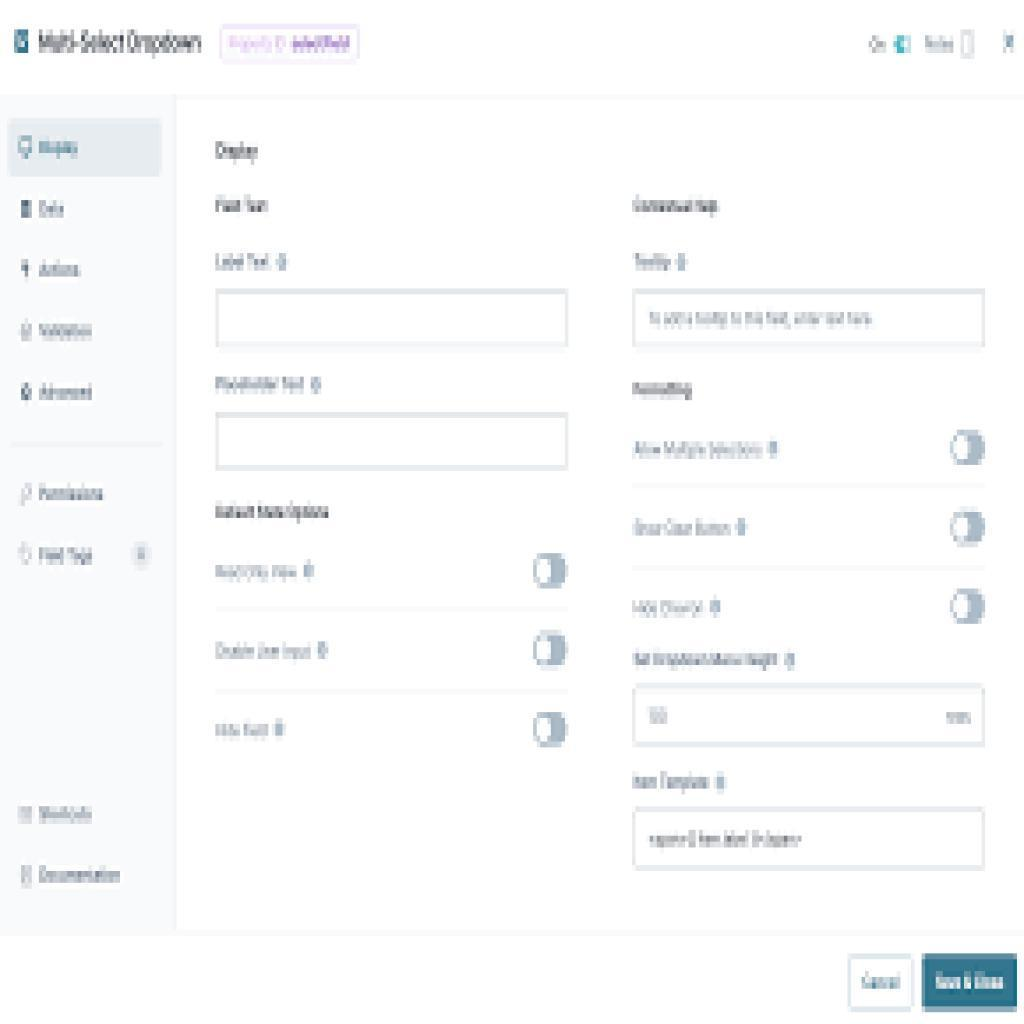button: (922, 955, 1019, 1013), (850, 957, 914, 1010)
input: (631, 807, 988, 871), (633, 687, 983, 747), (216, 290, 568, 348), (632, 289, 985, 346), (217, 414, 566, 468)
label: (630, 435, 787, 466), (632, 648, 803, 674), (212, 370, 327, 403), (210, 636, 337, 665), (212, 559, 324, 589), (629, 766, 732, 798), (212, 500, 336, 525), (627, 594, 730, 622), (630, 518, 753, 541), (632, 192, 728, 221), (214, 246, 292, 279), (628, 377, 700, 406), (213, 715, 291, 741), (631, 250, 693, 277), (214, 139, 262, 167), (215, 193, 270, 217)
switch: (533, 633, 571, 669), (535, 711, 572, 747), (950, 511, 987, 547), (535, 555, 570, 593), (952, 588, 986, 626), (952, 431, 986, 467)
